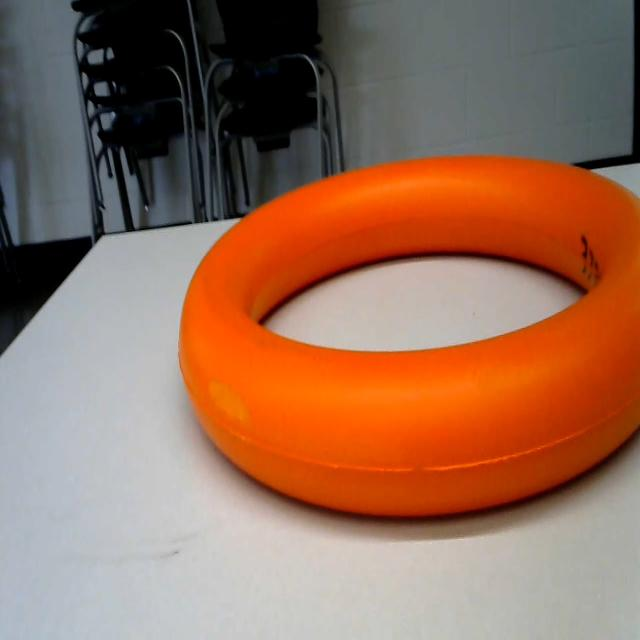note: (150, 124, 640, 530)
